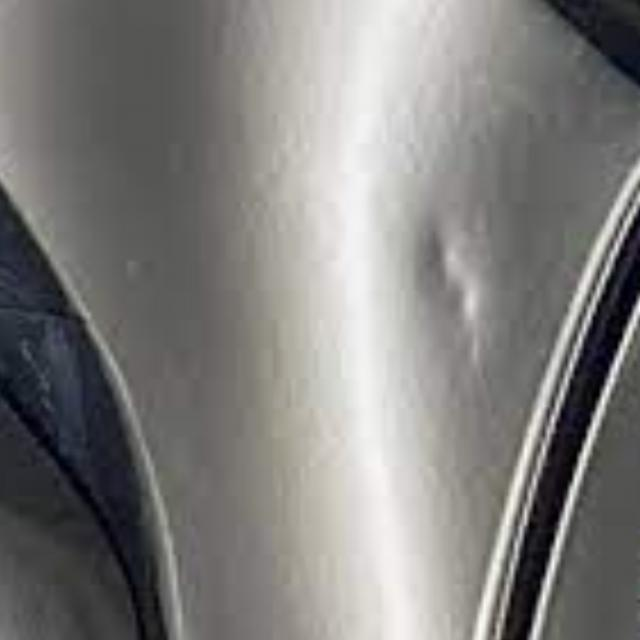dents: (390, 182, 514, 407)
